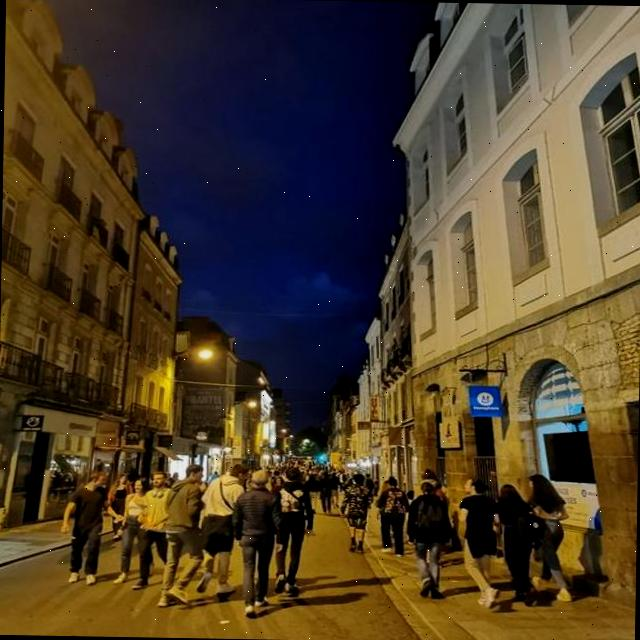curb: (367, 558, 447, 640), (0, 543, 67, 567)
